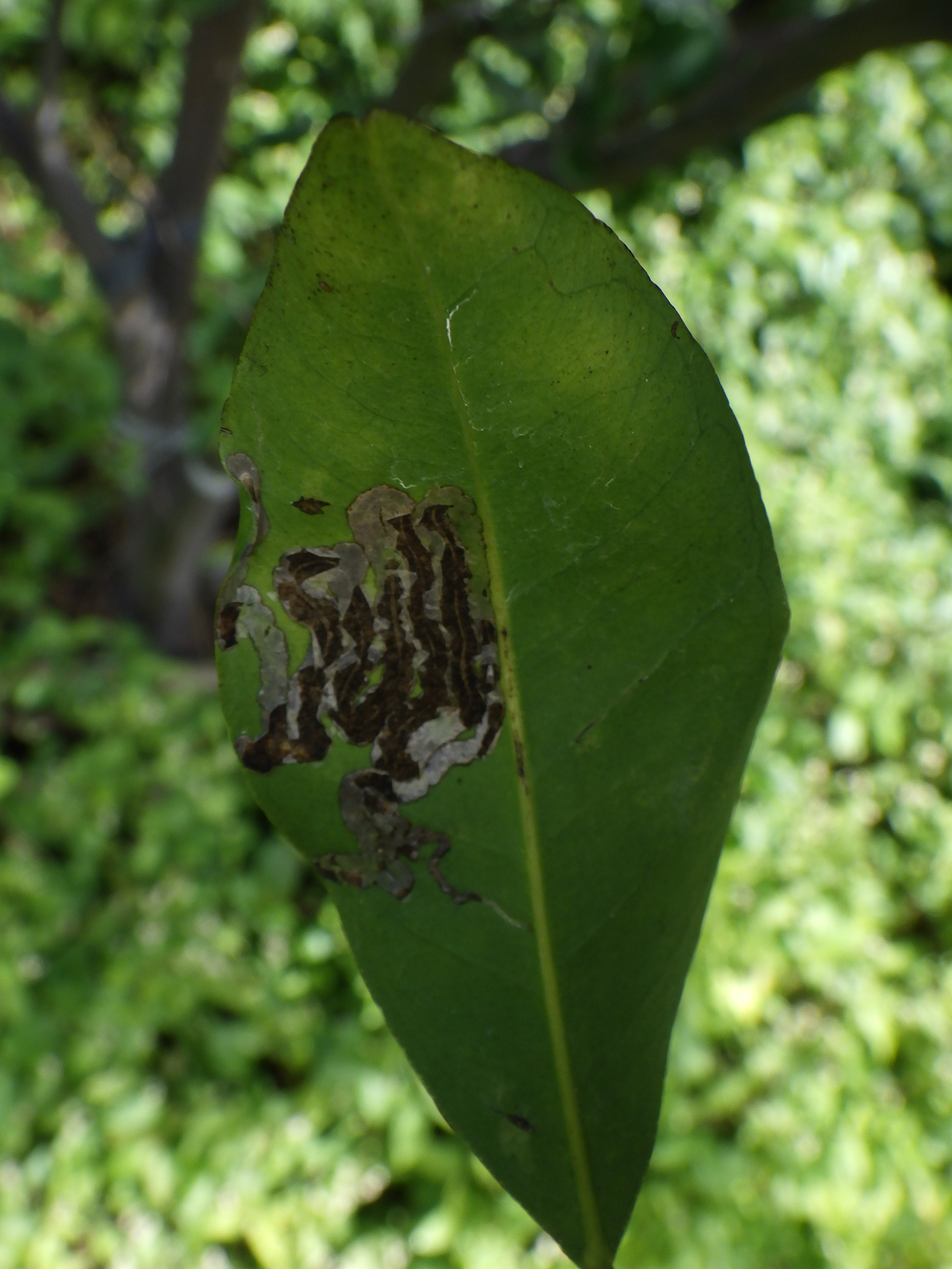Citrus_Leaf_Miner: (218, 485, 505, 903)
